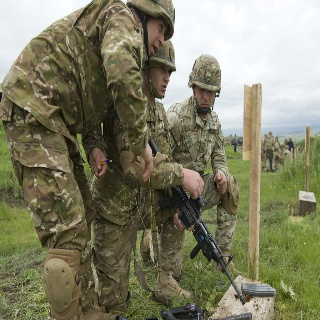rifle: (141, 136, 252, 304)
